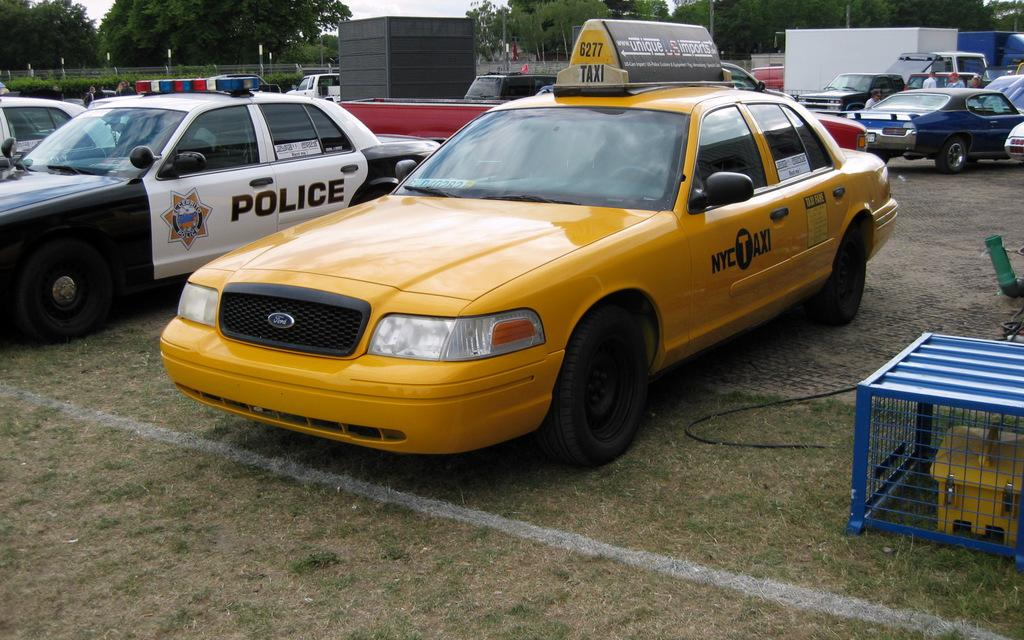taxi: (160, 19, 899, 467)
